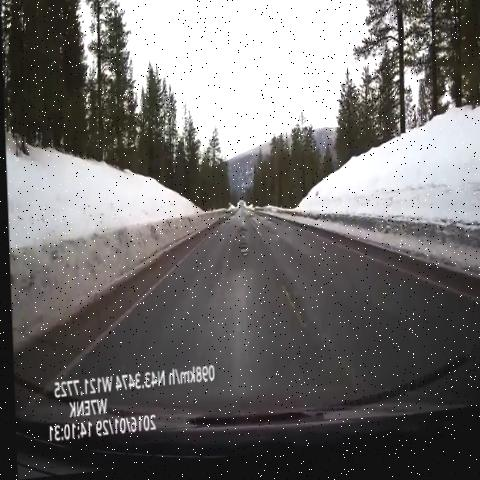pothole: (233, 241, 252, 266), (233, 224, 250, 244)
